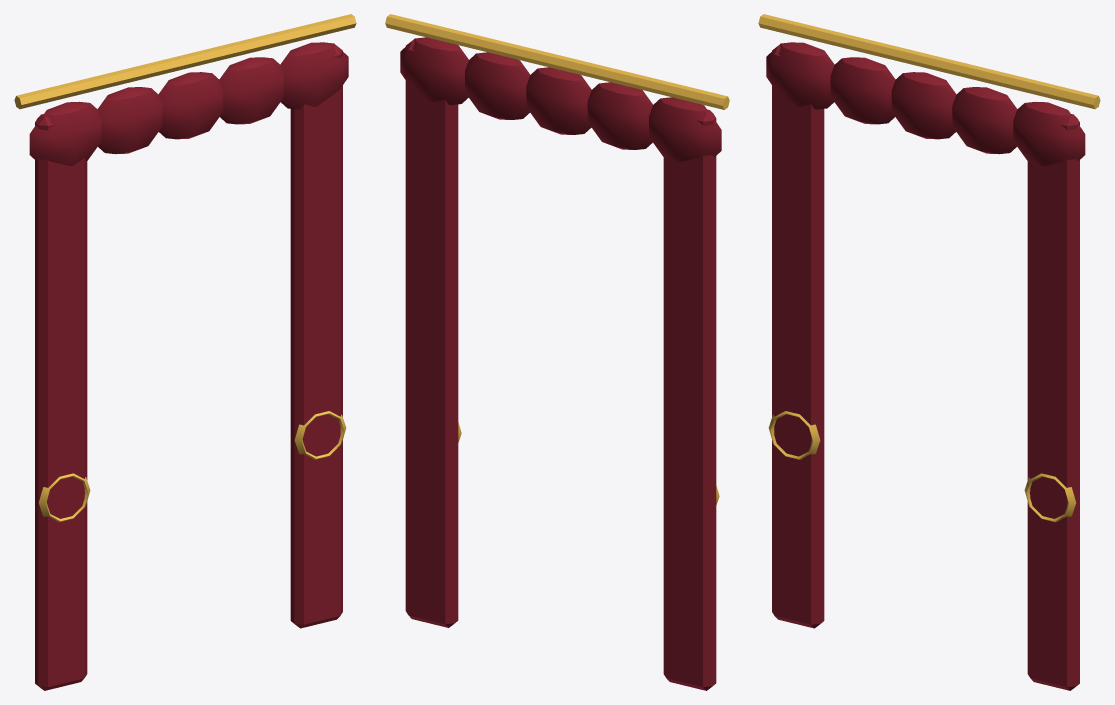
Rendered from PR_Tier_Perde.fbx.
3 renders of one model, left to right at view 1: azimuth 30°, elevation 25°; view 2: azimuth 150°, elevation 25°; view 3: azimuth 330°, elevation 25°, orthographic.
Parts seen in each view (by area): view 1: PR_Tier_Perde; view 2: PR_Tier_Perde; view 3: PR_Tier_Perde.
Boxes of the visible parts, left/top/right/bottom form: PR_Tier_Perde: left=14, top=14, right=356, bottom=690; PR_Tier_Perde: left=385, top=14, right=729, bottom=690; PR_Tier_Perde: left=758, top=14, right=1100, bottom=690.
Bounding box in the file's own units: 1.1 × 1.87 × 0.0989.
